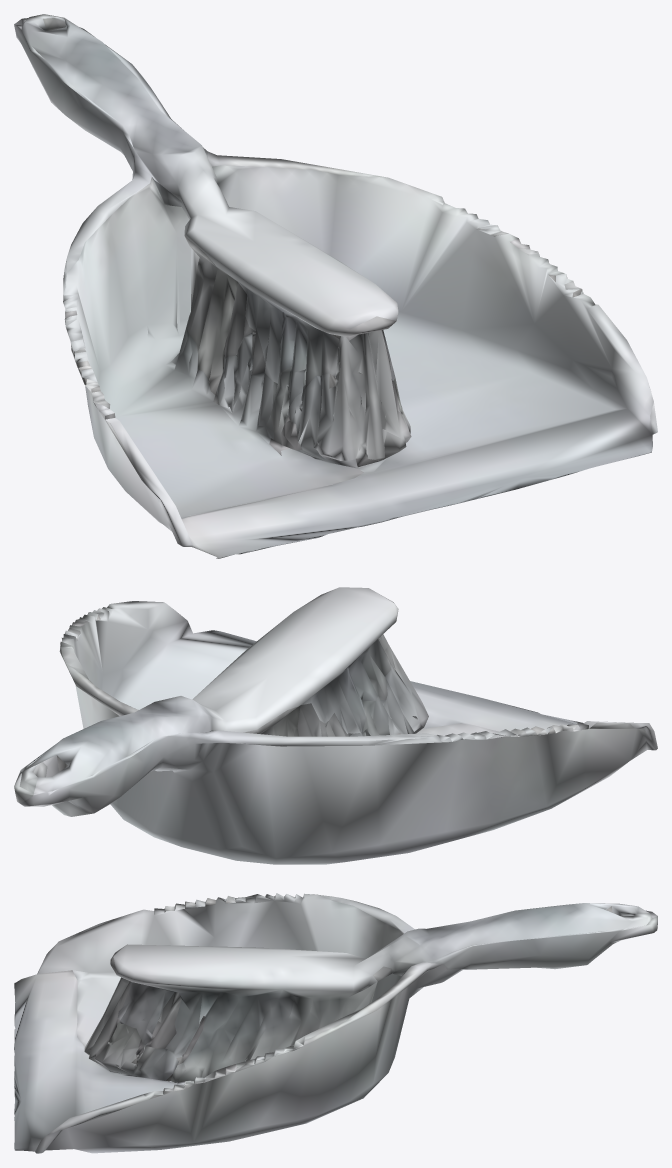
Rendered from Ocedar_Snap_On_Dust_Pan_And_Brush_1_ct-medium.glb.
3 views of the same model, one above another, from view 1: azimuth 30°, elevation 25°; view 2: azimuth 150°, elevation 25°; view 3: azimuth 270°, elevation 25° (orthographic). The views are drawn at different scales.
Visible parts, largest first — view 1: Ocedar_Snap_On_Dust_Pan_And_Brush_1_ct; view 2: Ocedar_Snap_On_Dust_Pan_And_Brush_1_ct; view 3: Ocedar_Snap_On_Dust_Pan_And_Brush_1_ct.
Part boxes in pixels (x1=…): Ocedar_Snap_On_Dust_Pan_And_Brush_1_ct: x1=14, y1=14, x2=657, y2=558; Ocedar_Snap_On_Dust_Pan_And_Brush_1_ct: x1=14, y1=587, x2=657, y2=864; Ocedar_Snap_On_Dust_Pan_And_Brush_1_ct: x1=14, y1=893, x2=657, y2=1153.
Size of the model in its own units: 0.2305 by 0.0935 by 0.3301.
1 material, 1 textured.
